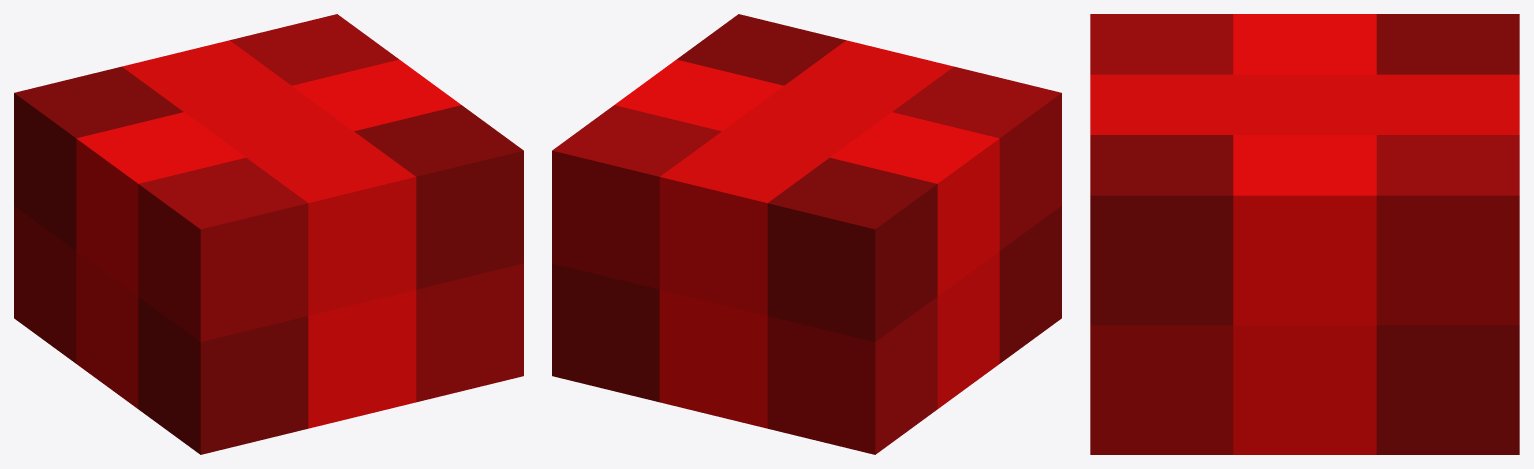
The model's file is Robot Manufacturing Chip 4.obj.
3 views of the same model, side by side, from view 1: azimuth 30°, elevation 25°; view 2: azimuth 150°, elevation 25°; view 3: azimuth 270°, elevation 25° (orthographic). The views are drawn at different scales.
Bounding box in the file's own units: 3 × 2 × 3.
1 material, 1 textured.
